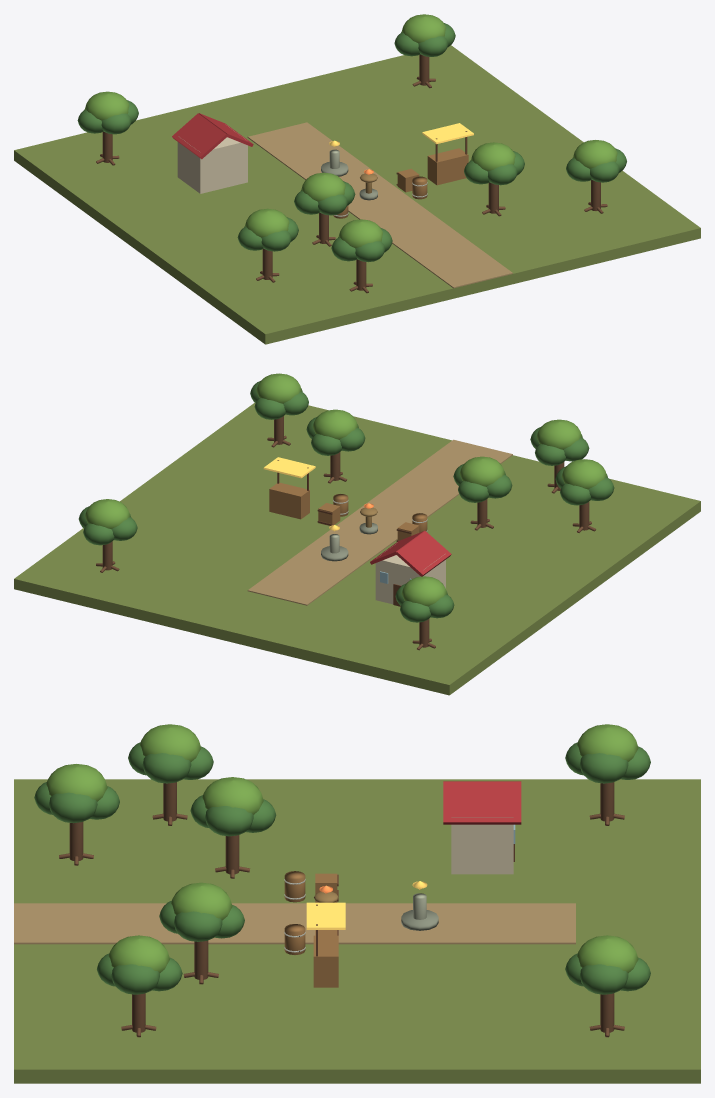
File: hillside_refuge.glb
3 renders of one model, top to bottom at view 1: azimuth 30°, elevation 25°; view 2: azimuth 150°, elevation 25°; view 3: azimuth 270°, elevation 25°, orthographic. The views are drawn at different scales.
Parts seen in each view (by area): view 1: ground, walk_path, canopy_0 (×7), walls, roof, counter, canopy; view 2: ground, walk_path, canopy_0 (×7), canopy_3 (×7), walls, roof, counter, canopy; view 3: ground, walk_path, canopy_0 (×7), canopy_2 (×7), canopy_3 (×7), roof, walls, counter, staves (×2), canopy, base, trunk.
Boxes of the visible parts, bbox=[...] form: ground: bbox=[14, 45, 700, 344]; walk_path: bbox=[247, 122, 512, 288]; canopy_0 (×7): bbox=[85, 14, 617, 248]; walls: bbox=[177, 126, 247, 193]; roof: bbox=[172, 113, 226, 159]; counter: bbox=[427, 148, 468, 185]; canopy: bbox=[422, 123, 473, 144]; ground: bbox=[14, 402, 700, 695]; walk_path: bbox=[247, 439, 512, 605]; canopy_0 (×7): bbox=[85, 373, 607, 606]; canopy_3 (×7): bbox=[83, 398, 590, 622]; walls: bbox=[375, 542, 445, 604]; roof: bbox=[396, 531, 451, 576]; counter: bbox=[269, 482, 309, 519]; canopy: bbox=[263, 457, 315, 478]; ground: bbox=[14, 779, 700, 1083]; walk_path: bbox=[14, 903, 575, 944]; canopy_0 (×7): bbox=[46, 724, 638, 973]; canopy_2 (×7): bbox=[49, 753, 628, 994]; canopy_3 (×7): bbox=[89, 746, 650, 991]; roof: bbox=[443, 782, 521, 824]; walls: bbox=[451, 817, 513, 874]; counter: bbox=[313, 935, 338, 987]; staves (×2): bbox=[284, 871, 305, 954]; canopy: bbox=[306, 902, 345, 929]; base: bbox=[401, 910, 438, 930]; trunk: bbox=[194, 940, 208, 979].
Bounding box in the file's own units: 22 × 3.72 × 22.
